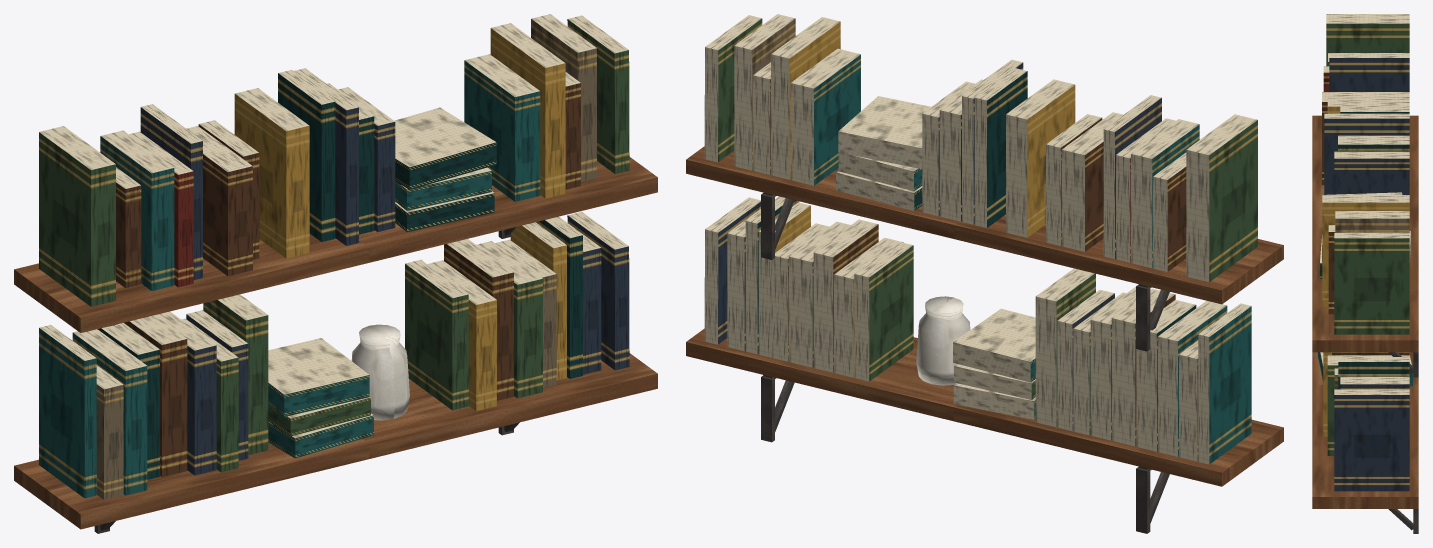
File: wall-shelf-books.glb
The picture shows the model from 3 angles, left to right: view 1: azimuth 30°, elevation 25°; view 2: azimuth 150°, elevation 25°; view 3: azimuth 270°, elevation 25°; orthographic projection. The views are drawn at different scales.
Visible parts, largest first — view 1: WallShelfBooks_books, WallShelfBooks_oak, WallShelfBooks_ceramic; view 2: WallShelfBooks_books, WallShelfBooks_oak, WallShelfBooks_iron, WallShelfBooks_ceramic; view 3: WallShelfBooks_books, WallShelfBooks_oak, WallShelfBooks_iron.
Boxes of the visible parts, left/top/right/bottom form: WallShelfBooks_books: left=39, top=14, right=629, bottom=499; WallShelfBooks_oak: left=14, top=157, right=657, bottom=529; WallShelfBooks_ceramic: left=351, top=324, right=409, bottom=420; WallShelfBooks_books: left=704, top=14, right=1257, bottom=464; WallShelfBooks_oak: left=686, top=146, right=1283, bottom=486; WallShelfBooks_iron: left=761, top=193, right=1169, bottom=533; WallShelfBooks_ceramic: left=916, top=296, right=970, bottom=385; WallShelfBooks_books: left=1318, top=14, right=1412, bottom=491; WallShelfBooks_oak: left=1312, top=115, right=1418, bottom=508; WallShelfBooks_iron: left=1388, top=352, right=1418, bottom=533.
Size of the model in its own units: 1.2 by 0.8327 by 0.24.
Materials: 4 (4 with a texture image).
